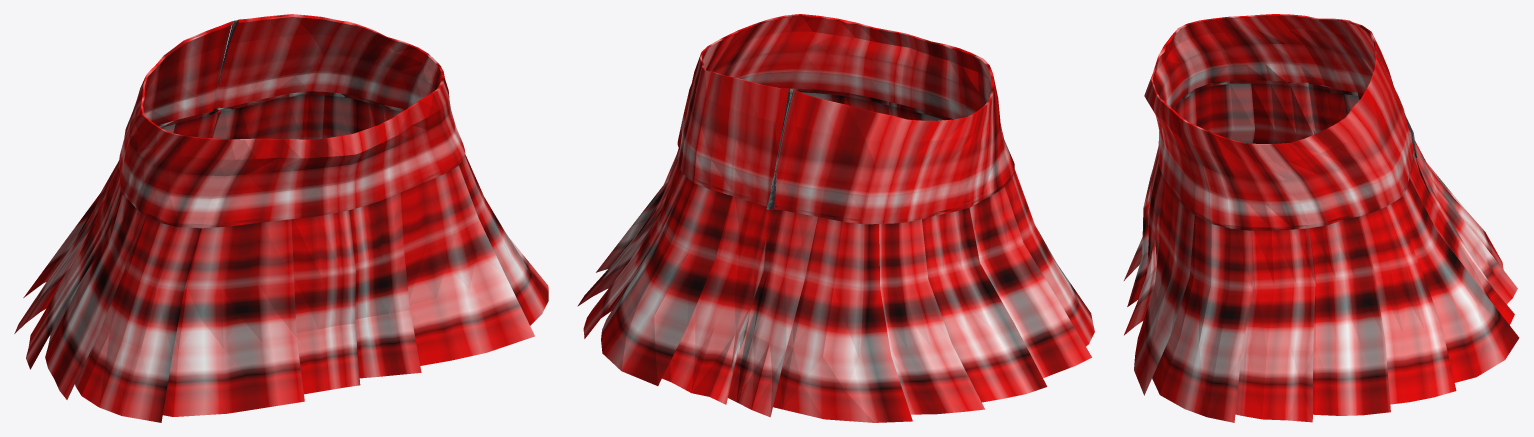
File: mhw_mtknife_pleated_mini_skirt.glb
3 views of the same model, side by side, from view 1: azimuth 30°, elevation 25°; view 2: azimuth 150°, elevation 25°; view 3: azimuth 270°, elevation 25° (orthographic). The views are drawn at different scales.
Visible parts, largest first — view 1: mhw_mtknife_pleated_mini_skirt; view 2: mhw_mtknife_pleated_mini_skirt; view 3: mhw_mtknife_pleated_mini_skirt.
Part boxes in pixels (x1,y1,x2,y2): mhw_mtknife_pleated_mini_skirt: [14, 14, 548, 422]; mhw_mtknife_pleated_mini_skirt: [577, 14, 1094, 422]; mhw_mtknife_pleated_mini_skirt: [1124, 14, 1519, 422].
Size of the model in its own units: 0.5367 by 0.2946 by 0.4012.
Materials: 1 (1 with a texture image).
